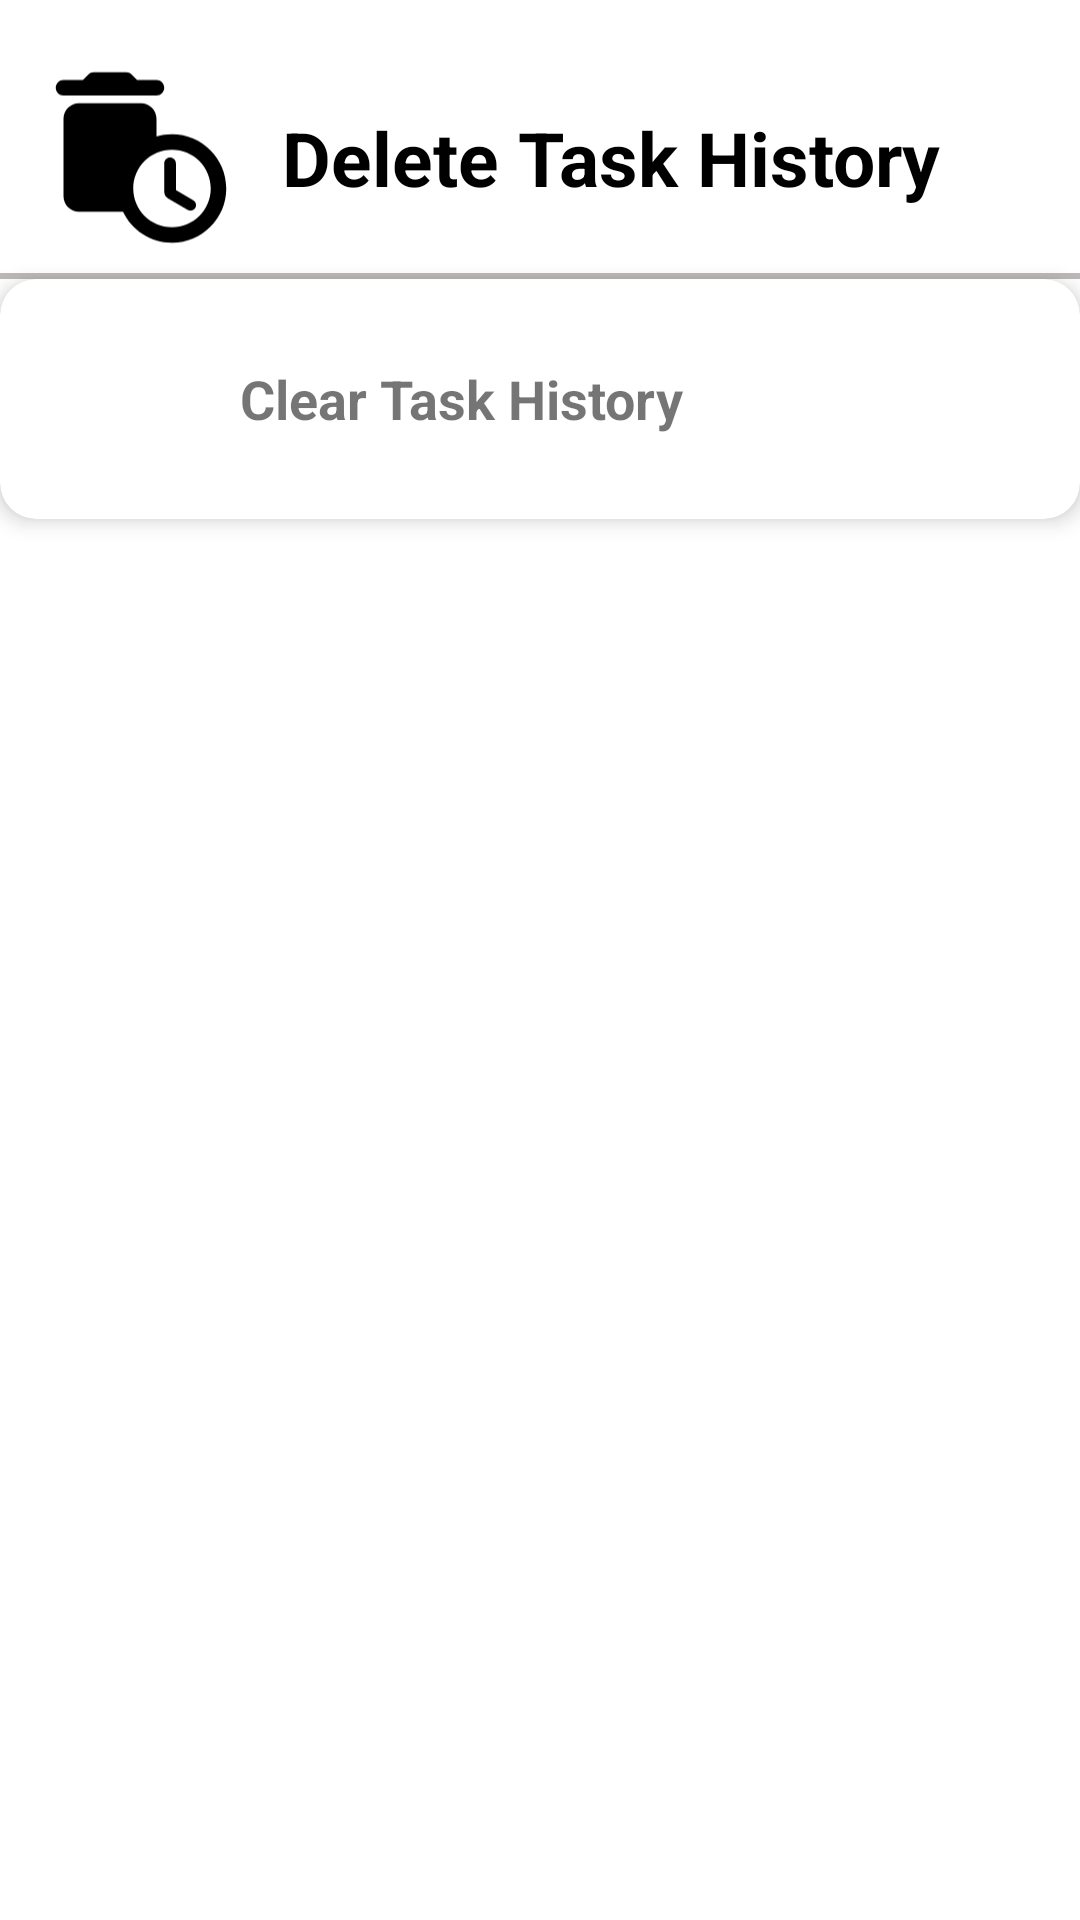

Where icons sit on this 1080px×1920px app screen, as (x1, y1, x2, y2):
deltaskhistory: (55, 71, 227, 244)
